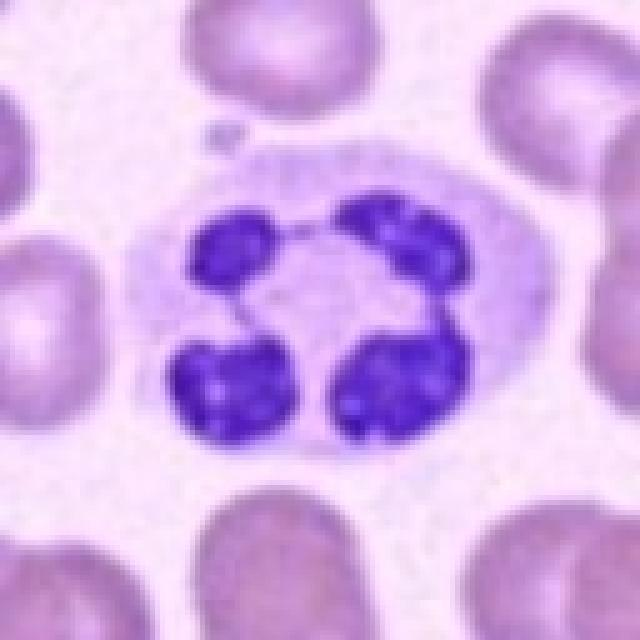neutro: (67, 147, 519, 520)
